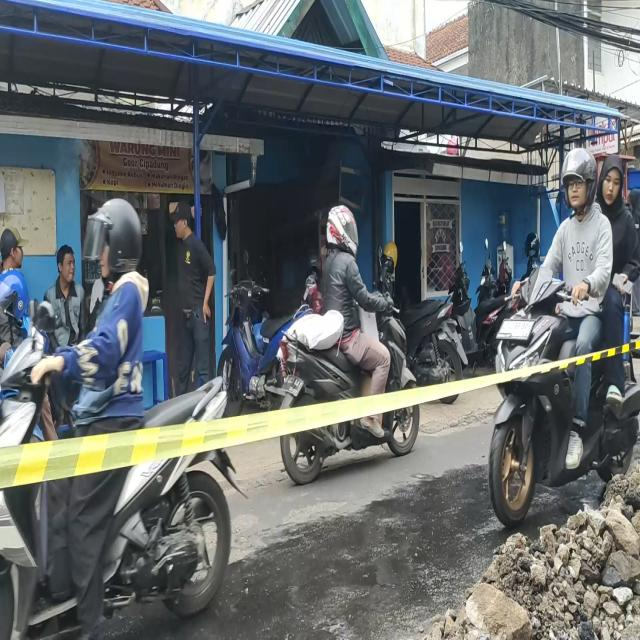helmet: (81, 195, 140, 278), (555, 146, 596, 209), (324, 201, 358, 255)
no-helmet: (602, 154, 625, 207)
